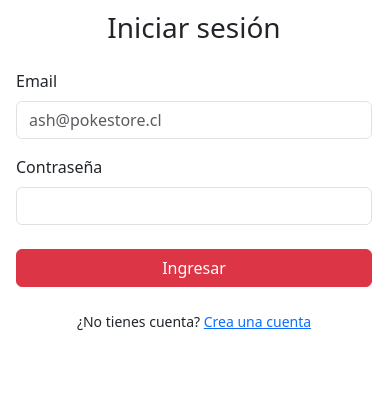
Test: Vista Login › muestra error con email inválido
Type "abc" into the field labelled "Email".
click(194, 120); type("abc")  # box x1=16 y1=101 x2=372 y2=139
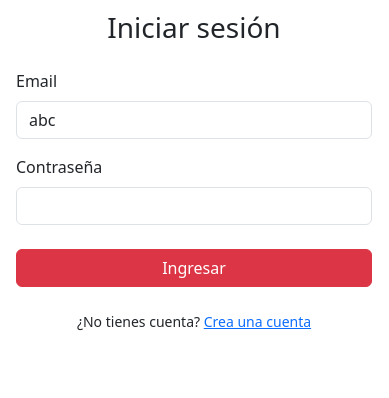
Click the button "Ingresar".
click(194, 268)  # box x1=16 y1=249 x2=372 y2=287
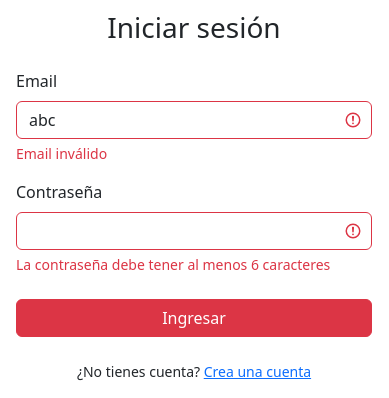
Expected: the text "Email inválido" is shown, x1=16 y1=144 x2=107 y2=163
